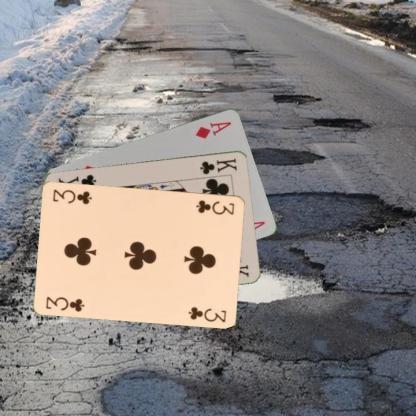3c: (43, 294, 86, 313), (194, 197, 236, 216)
Ad: (193, 118, 233, 140)
Kc: (198, 155, 238, 176)
